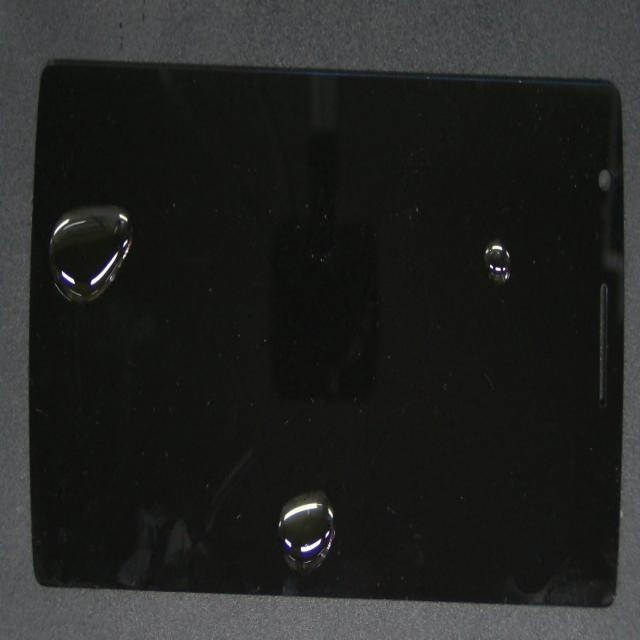oil: (220, 107, 640, 395), (170, 231, 450, 640), (80, 110, 187, 309)
